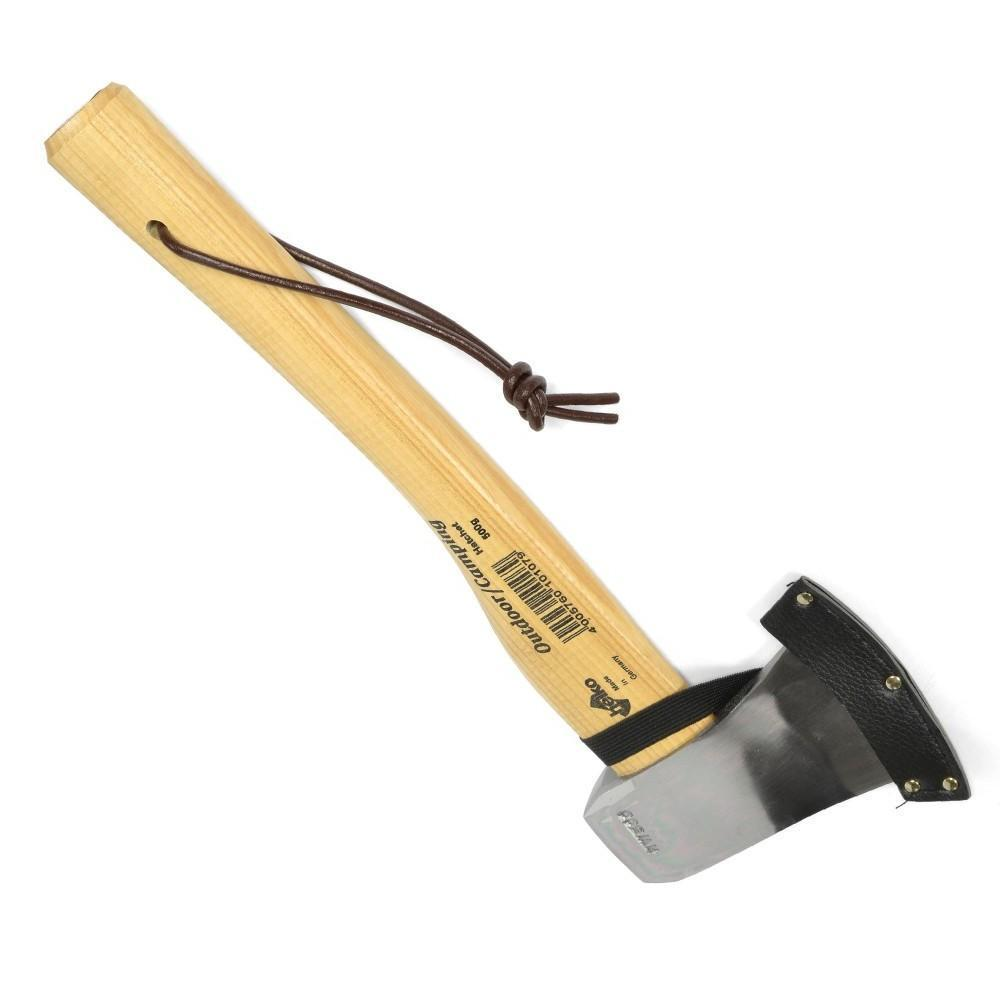machado: (47, 85, 969, 880)
